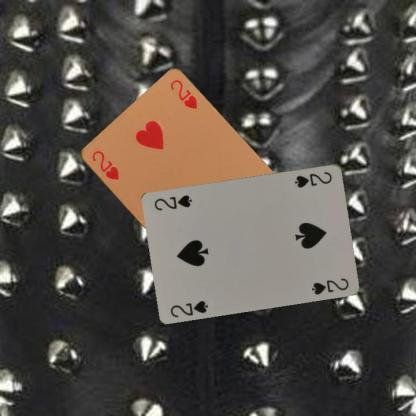2h: (89, 148, 120, 183)
2s: (292, 169, 334, 189), (168, 298, 209, 318)
